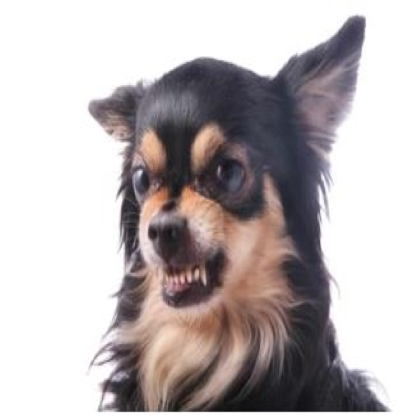chihuahua: (84, 12, 395, 412)
